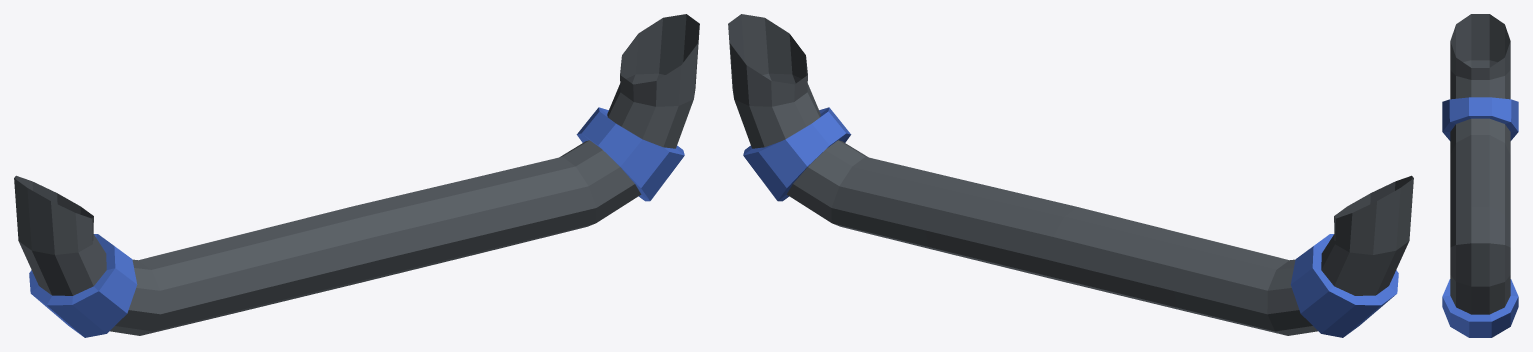
Rendered from Dropship_03_Piping_Big_Blue.fbx.
3 views of the same model, side by side, from view 1: azimuth 30°, elevation 25°; view 2: azimuth 150°, elevation 25°; view 3: azimuth 270°, elevation 25° (orthographic). The views are drawn at different scales.
Parts seen in each view (by area): view 1: Dropship_03_Piping_Big_Blue; view 2: Dropship_03_Piping_Big_Blue; view 3: Dropship_03_Piping_Big_Blue.
Boxes of the visible parts, left/top/right/bottom form: Dropship_03_Piping_Big_Blue: left=14, top=14, right=699, bottom=337; Dropship_03_Piping_Big_Blue: left=728, top=14, right=1413, bottom=337; Dropship_03_Piping_Big_Blue: left=1442, top=14, right=1518, bottom=337.
Bounding box in the file's own units: 284 × 71.02 × 39.79.
Materials: 1 (1 with a texture image).
